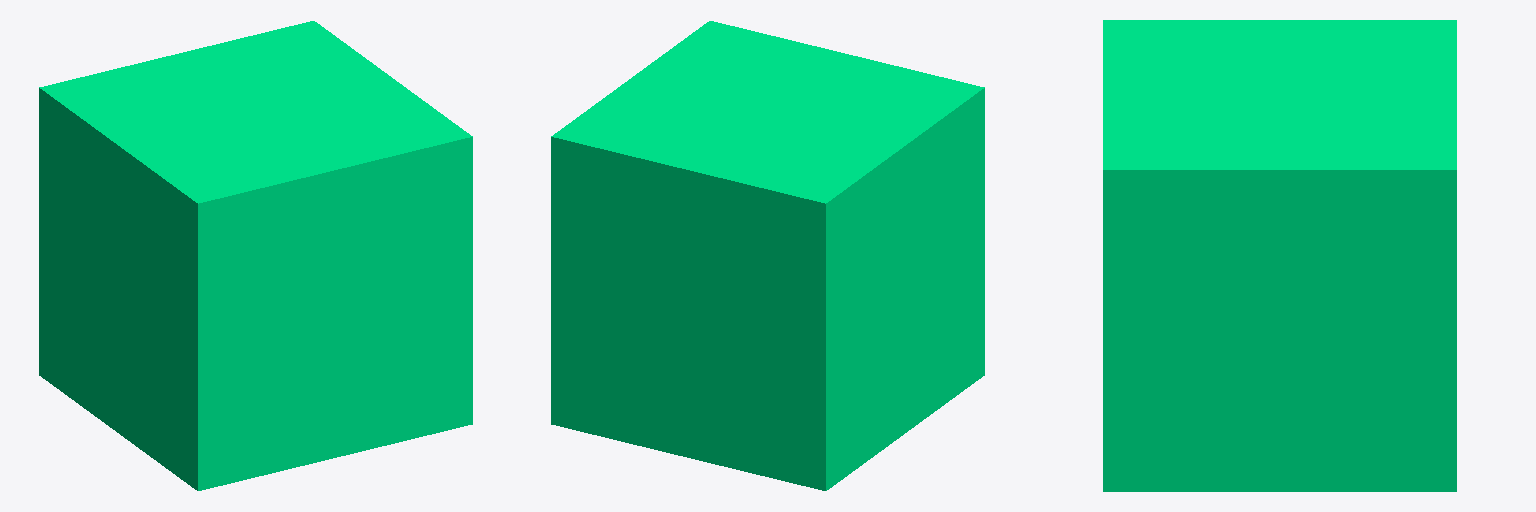
URDF robot description (ball):
<?xml version="1.0" ?>
<robot name="ball">
    <material name="light_gold">
        <color rgba="0.9333333333333333 0.8627450980392157 0.5098039215686274 1"/>
    </material>
    <material name="gray">
        <color rgba="0.7450980392156863 0.7450980392156863 0.7450980392156863 1"/>
    </material>
    <material name="red">
        <color rgba="1 0 0 1"/>
    </material>
    <material name="orange">
        <color rgba="1 0.647058823 0 1"/>
    </material>
     <material name="yellow">
        <color rgba="1 1 0 1"/>
    </material>
    <material name="green">
        <color rgba="0 0.9803921 0.603921   1"/>
    </material>

    <material name="blue">
        <color rgba="0.52941176 0.807843 1   1"/>
    </material>
    <material name="Purple">
        <color rgba="0.698 0.2274509 0.933333   1"/>
    </material>


  <link name="ballLink">
    <contact>
      <lateral_friction value="1"/>
    </contact>
    <inertial>
      <origin rpy="0 0 0" xyz="0 0 0"/>
       <mass value="0.021"/>
       <inertia ixx="0.0000028" ixy="0" ixz="0" iyy="0.0000028" iyz="0" izz="0.0000028"/>
    </inertial>
    <visual>
      <origin rpy="0 0 0" xyz="0 0 0"/>
      <geometry>
			<box size= "0.03 0.03 0.03"  />
      </geometry>
        <material name="green"/>
    </visual>
    <collision>
    <origin rpy="0 0 0" xyz="0 0 0. "/>
      <geometry>
            <box size="0.03 0.03 0.03"/>
      </geometry>
    </collision>
  </link>
</robot>

--- What the picture shows (computed from the rendered views, not written in the file) ---
The picture shows the robot from 3 angles, left to right: view 1: azimuth 30°, elevation 25°; view 2: azimuth 150°, elevation 25°; view 3: azimuth 270°, elevation 25°; orthographic projection.
Model ball with 1 links and 0 joints (none), rooted at ballLink, posed every joint at zero.
Links seen in each view (by area): view 1: ballLink; view 2: ballLink; view 3: ballLink.
Link boxes in pixels (<box>): ballLink: <box>39,21,472,490</box>; ballLink: <box>551,21,984,490</box>; ballLink: <box>1103,20,1456,491</box>.
Bounding box of the posed robot: 0.03 × 0.03 × 0.03 m (x, y, z).
Geometry: primitives only (box / cylinder / sphere), no mesh files.